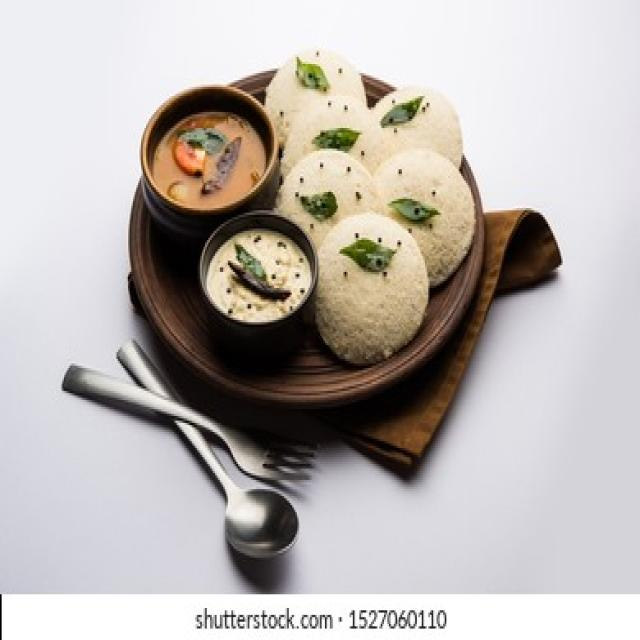IDLI: (315, 213, 428, 363), (374, 151, 473, 286), (281, 151, 377, 247), (359, 87, 459, 169), (264, 48, 363, 119), (282, 96, 369, 174)
